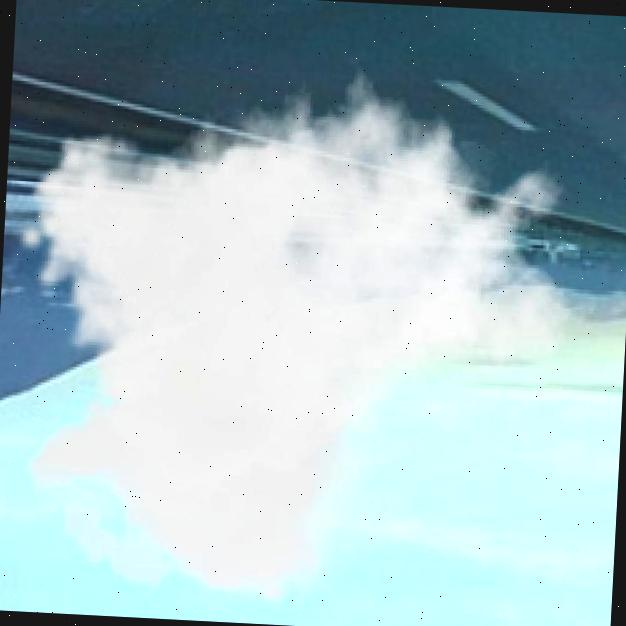smoke: (0, 32, 588, 623)
